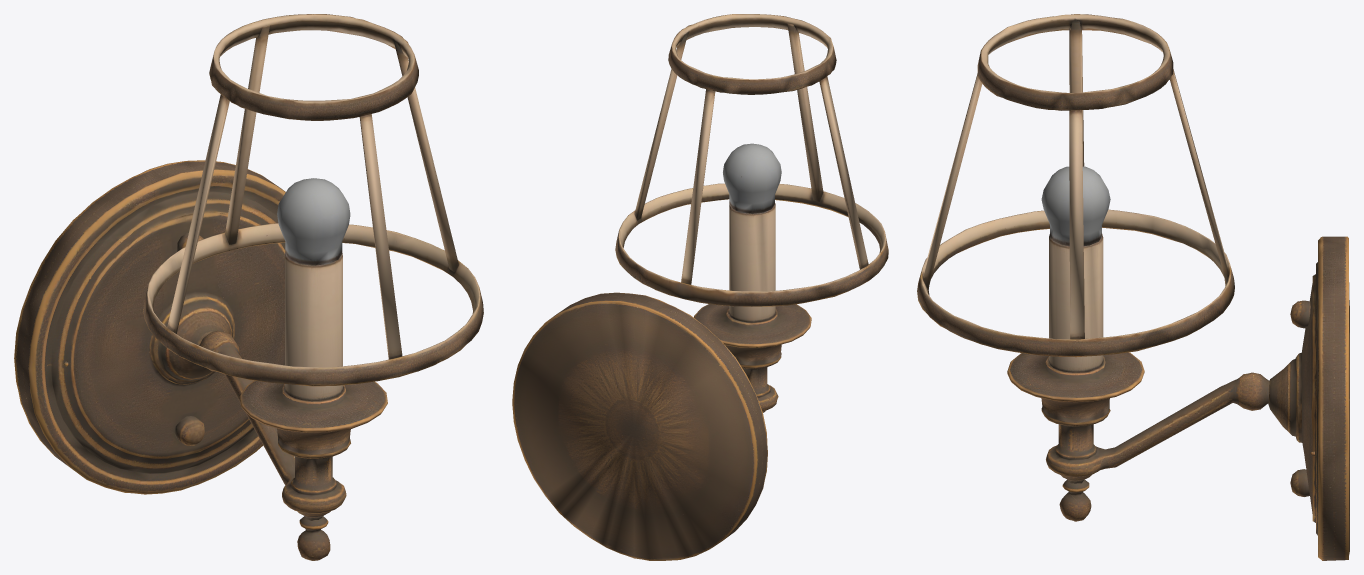
The picture shows the model from 3 angles, left to right: view 1: azimuth 30°, elevation 25°; view 2: azimuth 150°, elevation 25°; view 3: azimuth 270°, elevation 25°; orthographic projection. The views are drawn at different scales.
Visible parts, largest first — view 1: tripo_node_420f00ca-48c6-4c71-919f-565f4bfba235; view 2: tripo_node_420f00ca-48c6-4c71-919f-565f4bfba235; view 3: tripo_node_420f00ca-48c6-4c71-919f-565f4bfba235.
Part boxes in pixels (left/top/right/bottom): tripo_node_420f00ca-48c6-4c71-919f-565f4bfba235: left=14, top=14, right=483, bottom=560; tripo_node_420f00ca-48c6-4c71-919f-565f4bfba235: left=512, top=14, right=888, bottom=560; tripo_node_420f00ca-48c6-4c71-919f-565f4bfba235: left=917, top=14, right=1349, bottom=560.
Bounding box in the file's own units: 0.5996 × 0.998 × 0.7949.
Materials: 1 (1 with a texture image).
